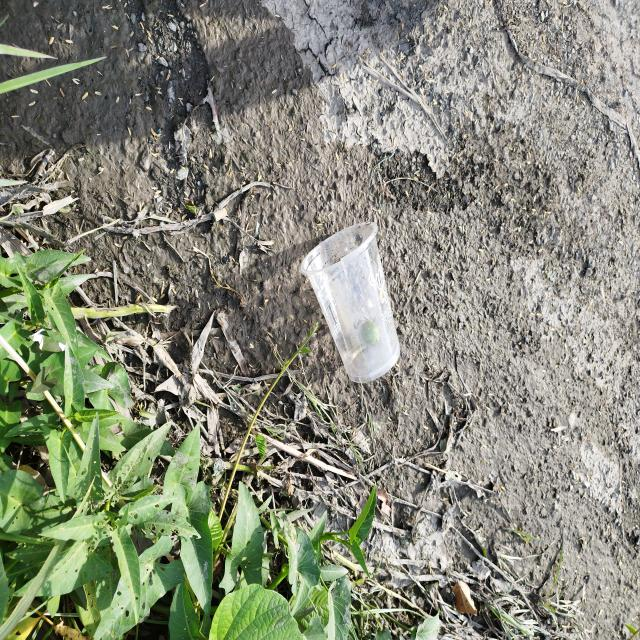plastic glass: (300, 221, 401, 383)
